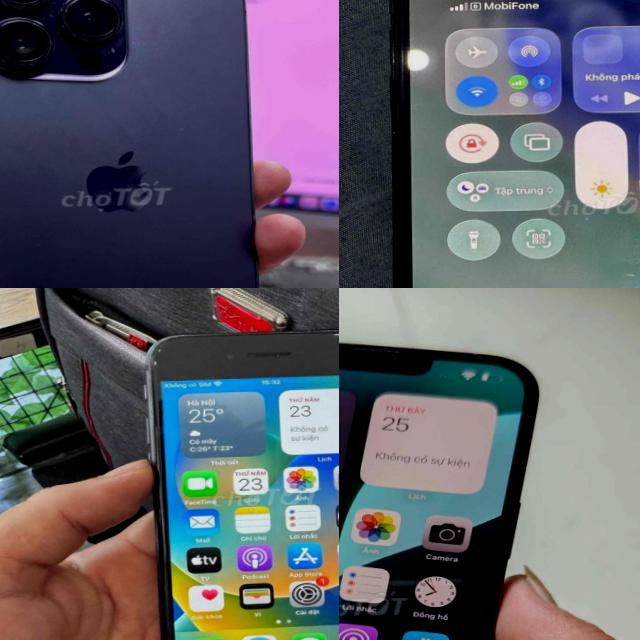gen_11: (380, 0, 640, 288), (128, 312, 339, 640)
gen_12_13: (339, 331, 550, 640)
gen_14: (0, 0, 278, 288)
